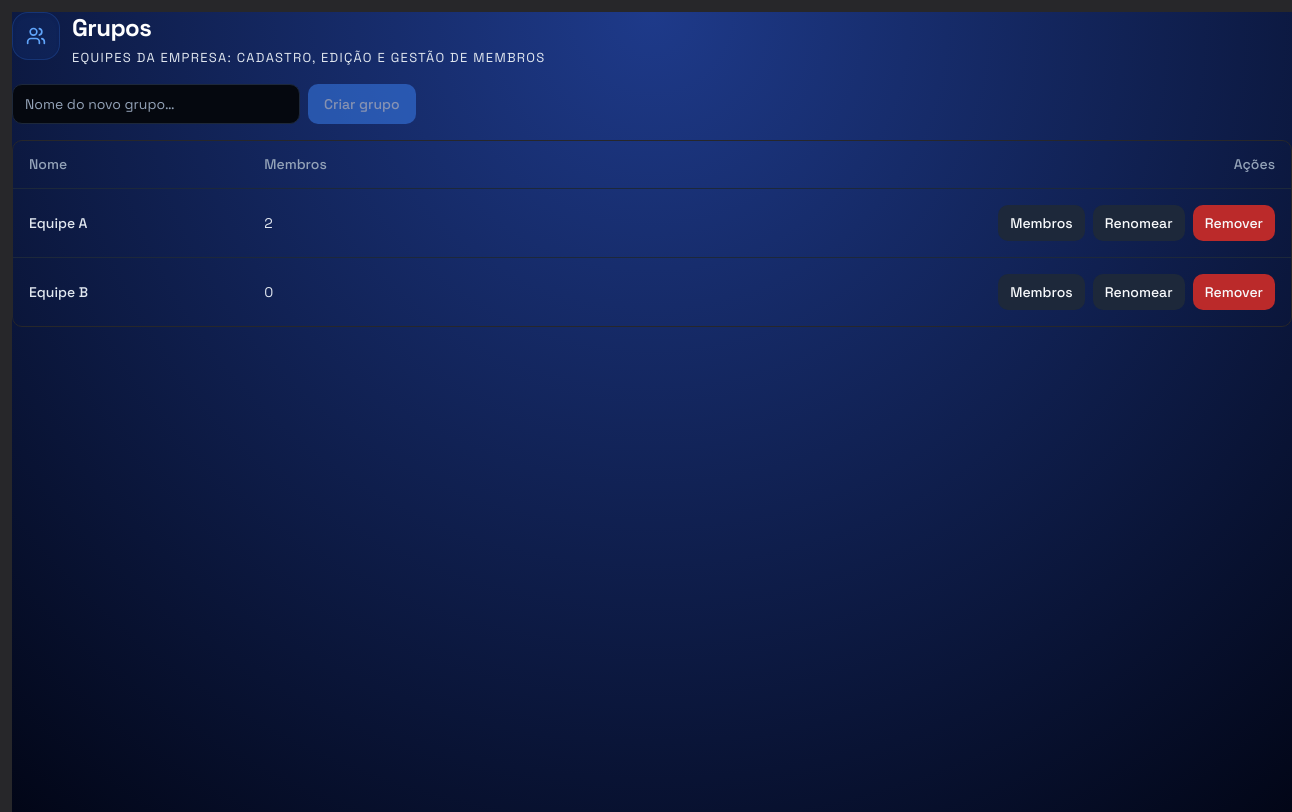
Test case: GroupsPage (task_08) › exibe erro do backend (ex.: nome duplicado 409)
The width and height of the screenshot is (1292, 812).
Check: the text "Equipe A" is shown, box top-left (13, 188), bottom-right (248, 258)
In the field with placeholder "Nome do novo grupo…": (156, 104) top-left (12, 84), bottom-right (300, 124), type "Equipe A"
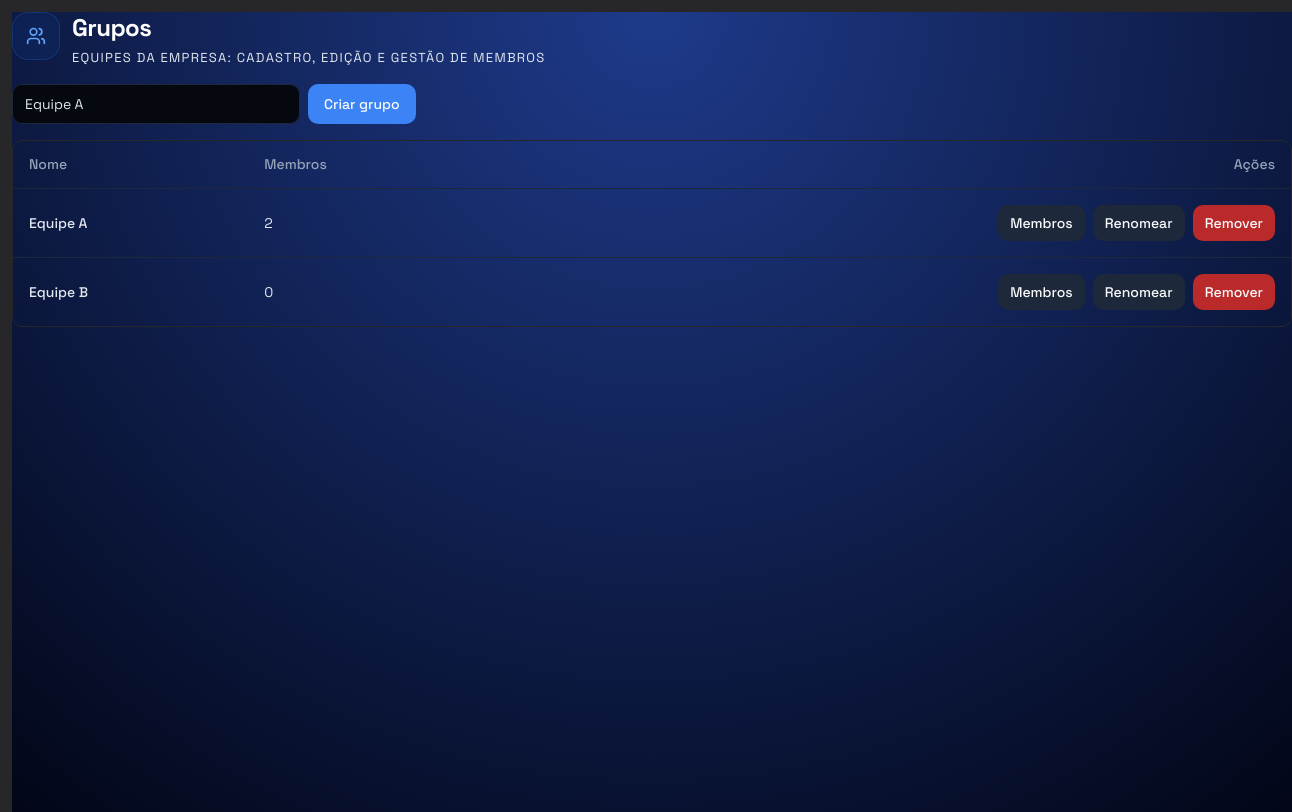
Click the button "Criar grupo": (362, 104) top-left (308, 84), bottom-right (416, 124)
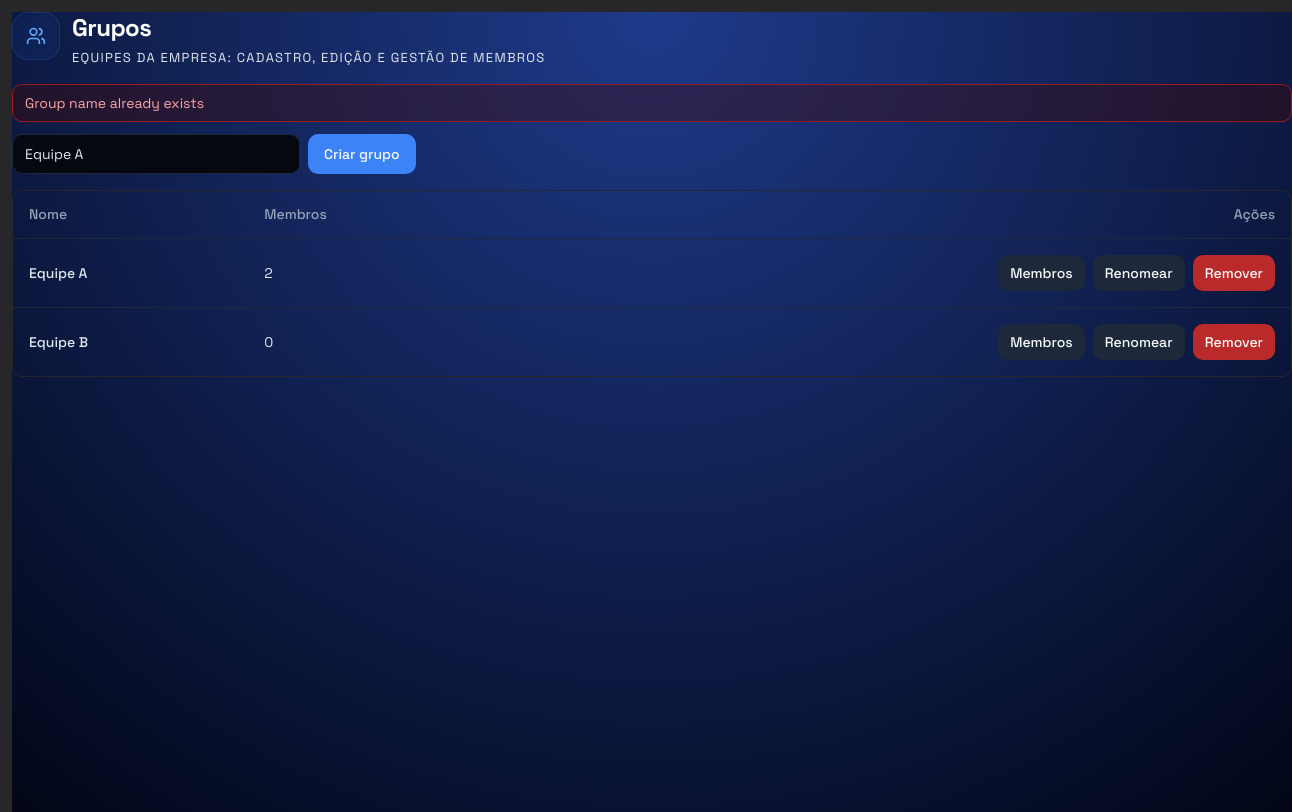
Check: the message reads "Group name already exists", box top-left (25, 94), bottom-right (204, 112)
